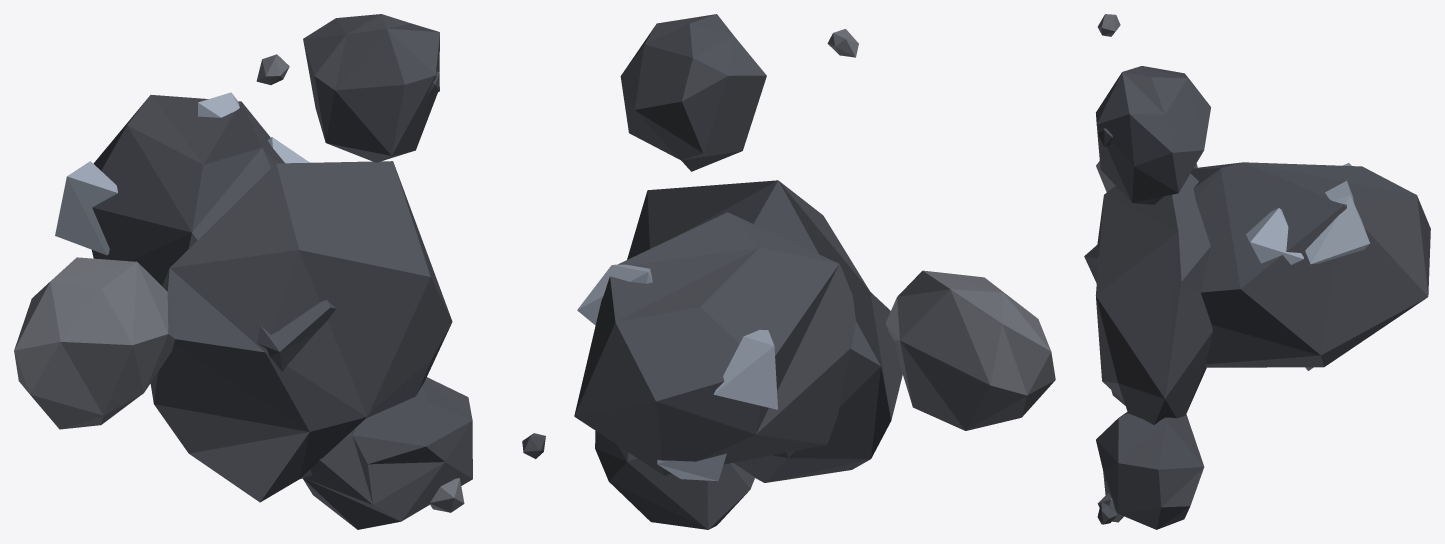
Rendered from SM_Rock_Iron_03.fbx.
3 views of the same model, side by side, from view 1: azimuth 30°, elevation 25°; view 2: azimuth 150°, elevation 25°; view 3: azimuth 270°, elevation 25° (orthographic). The views are drawn at different scales.
Parts seen in each view (by area): view 1: fam_rock_dark, fam_rock, fam_iron; view 2: fam_rock_dark, fam_rock, fam_iron; view 3: fam_rock_dark, fam_iron, fam_rock.
Part boxes in pixels (box(x1,y1,x2,y2)): fam_rock_dark: box(92, 14, 545, 529); fam_rock: box(14, 54, 464, 512); fam_iron: box(55, 92, 309, 255); fam_rock_dark: box(574, 14, 902, 529); fam_rock: box(827, 29, 1055, 430); fam_iron: box(577, 264, 777, 481); fam_rock_dark: box(1084, 66, 1430, 529); fam_iron: box(1246, 163, 1369, 370); fam_rock: box(1096, 14, 1197, 522).
Size of the model in its own units: 10.18 by 9.95 by 6.99.
